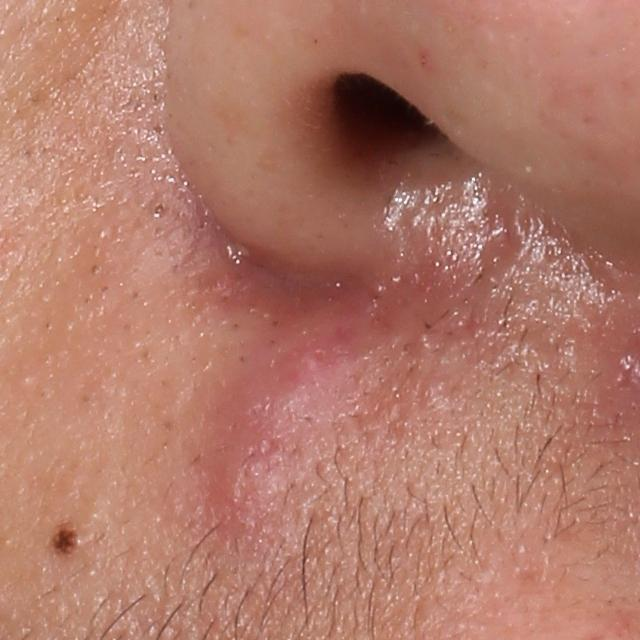comedo: (149, 199, 167, 217)
nevus: (46, 522, 90, 558)
